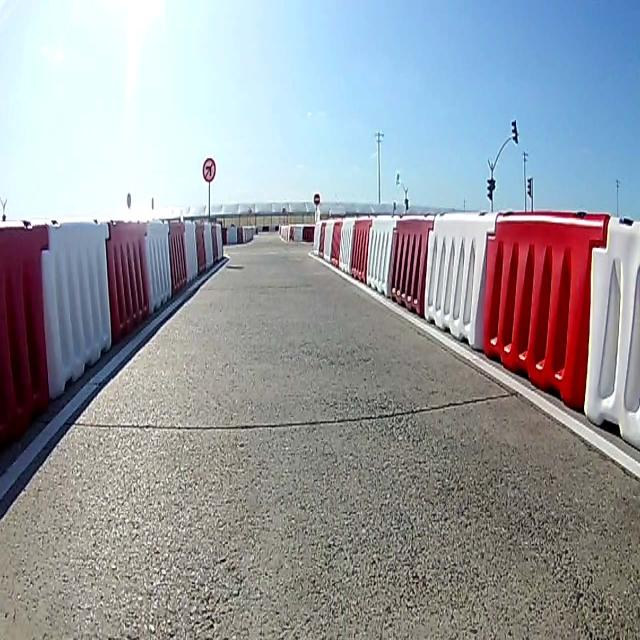girisyok: (314, 191, 320, 205)
soladonulmez: (203, 156, 215, 182)
